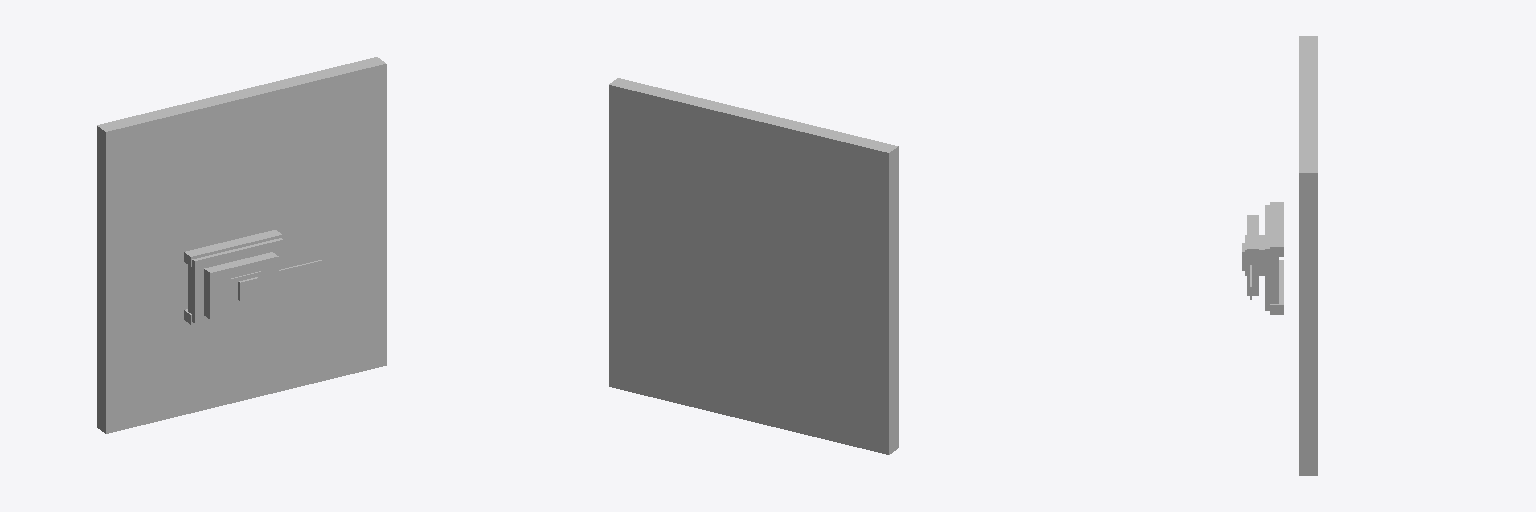
Rendered from tank.obj.
3 views of the same model, side by side, from view 1: azimuth 30°, elevation 25°; view 2: azimuth 150°, elevation 25°; view 3: azimuth 270°, elevation 25° (orthographic).
Visible parts, largest first — view 1: obj_0; view 2: obj_0; view 3: obj_0.
Boxes of the visible parts, <box> form: obj_0: <box>97,57,386,433</box>; obj_0: <box>609,78,898,454</box>; obj_0: <box>1242,36,1317,475</box>.
Bounding box in the file's own units: 208 × 214 × 49.